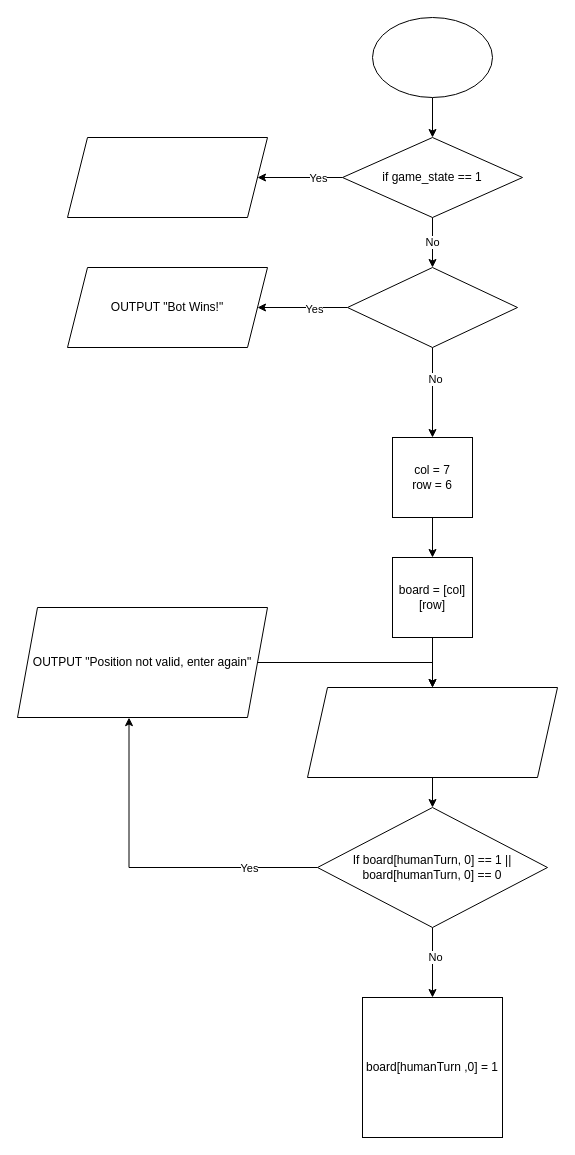
This 575x1155 diagram has some shape labels left out. The centre of each missing label's shape, as x and y in pixels:
else if game_state == 0: [432,307]
humanTurn = INPUT "Human turn, which column?: ": [432,732]
OUTPUT "Human Wins!": [167,177]
START: [432,57]
